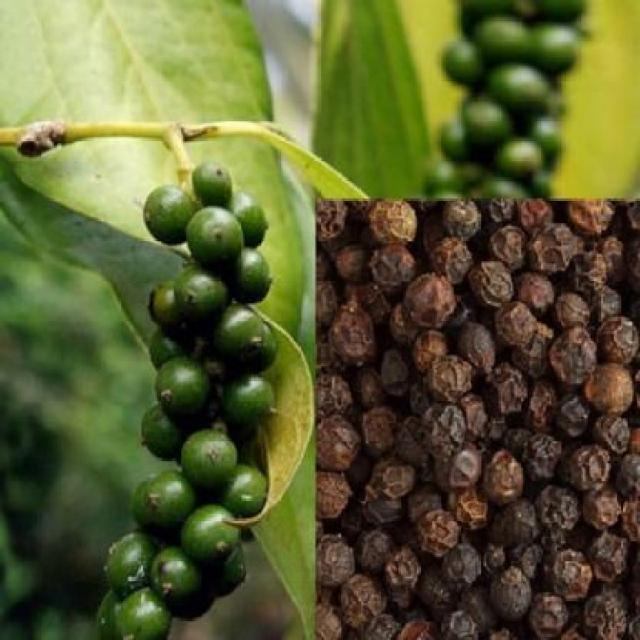UNRIPE: (100, 152, 251, 631)
